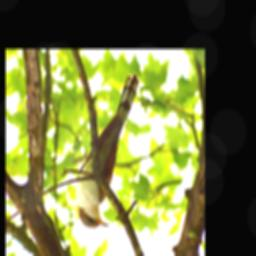Cuckoo: (75, 72, 140, 229)
